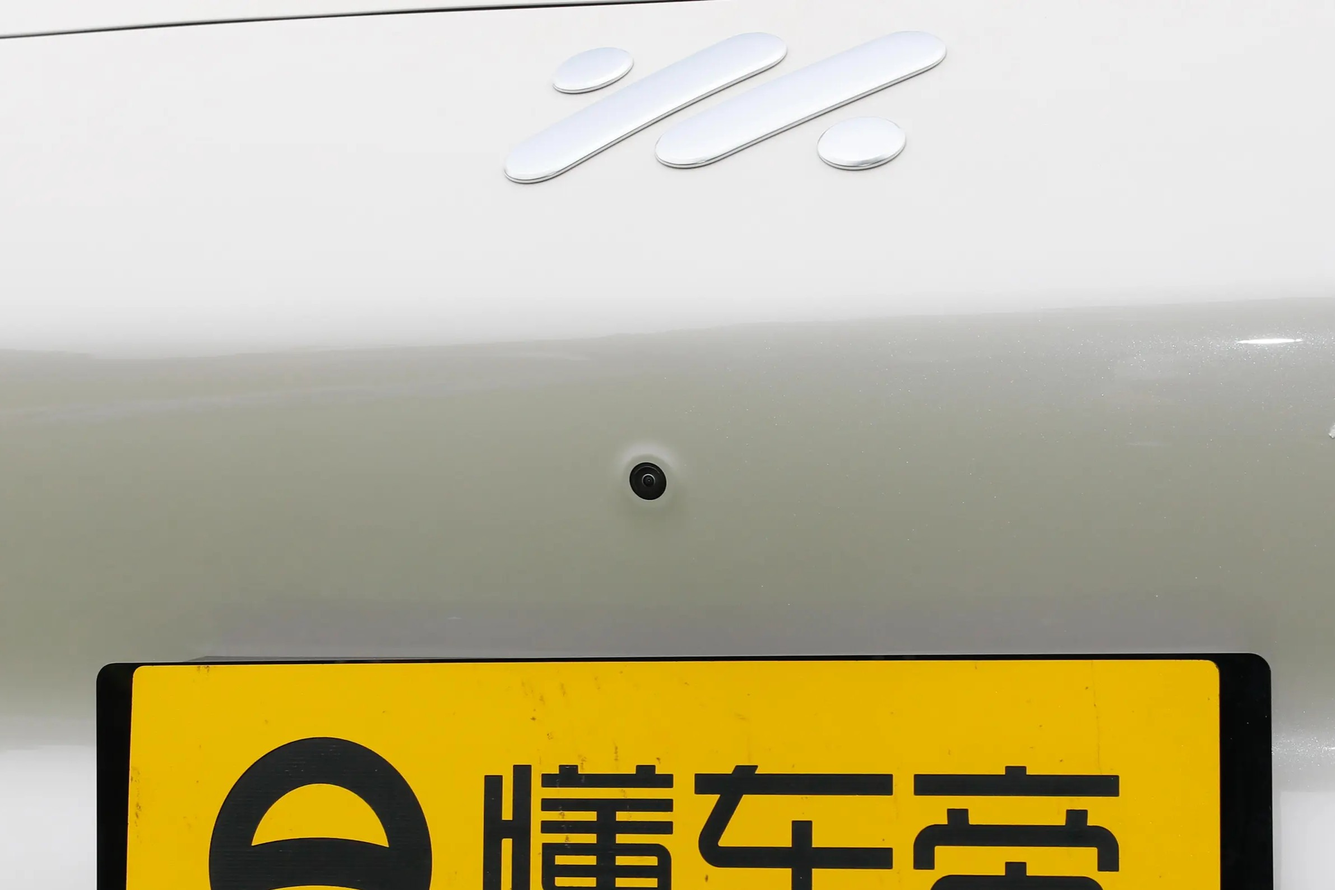IM: (503, 31, 947, 185)
